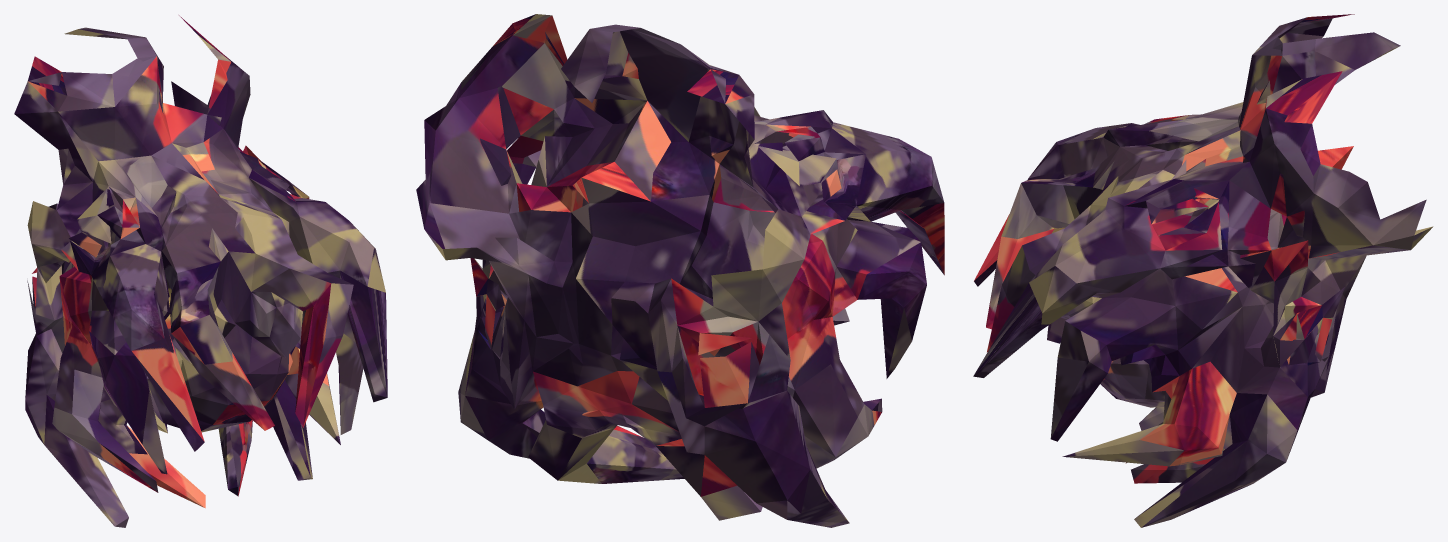
The picture shows the model from 3 angles, left to right: view 1: azimuth 30°, elevation 25°; view 2: azimuth 150°, elevation 25°; view 3: azimuth 270°, elevation 25°; orthographic projection. The views are drawn at different scales.
Size of the model in its own units: 0.657 by 0.95 by 0.9025.
